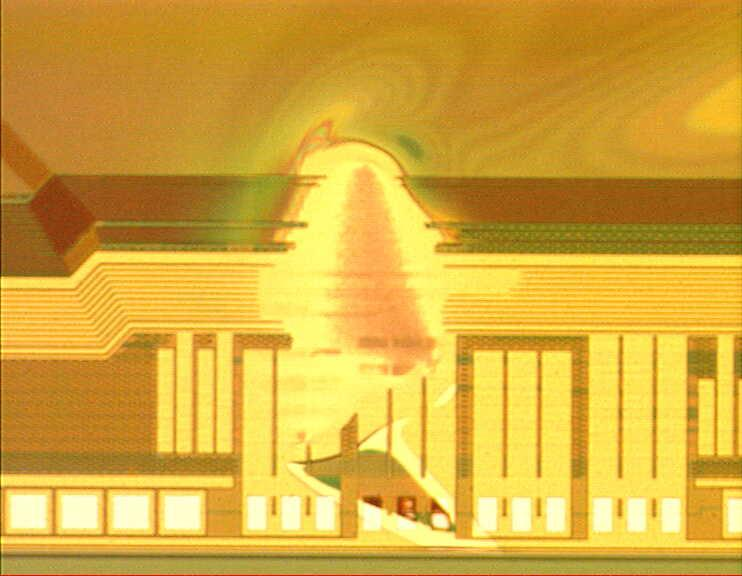BLOCK ETCH: (234, 109, 527, 576)
